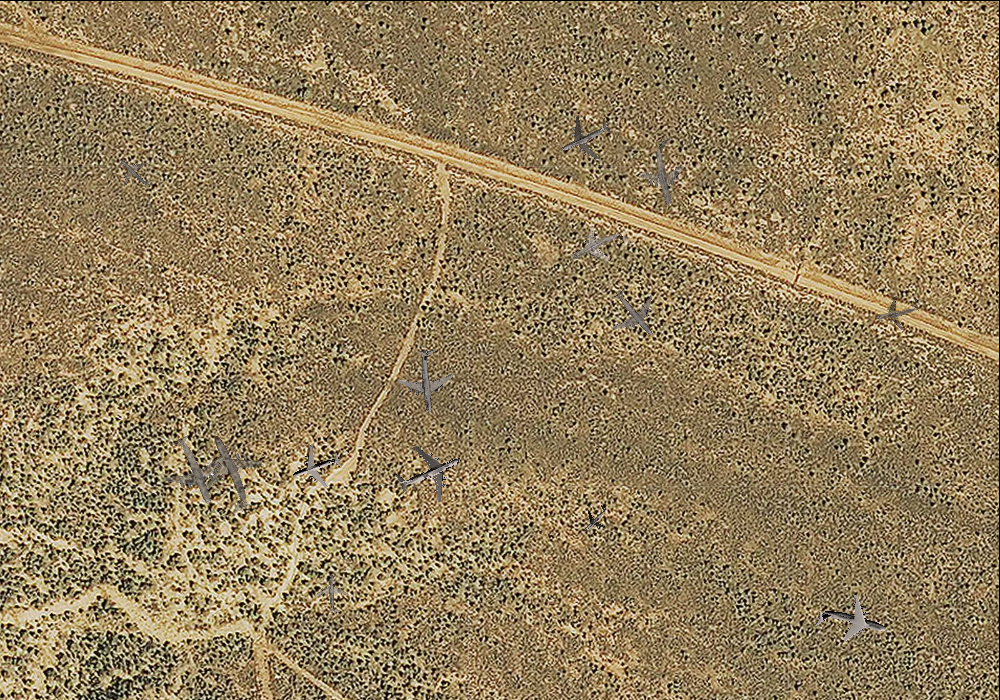plane: (180, 423, 279, 525), (146, 423, 240, 518), (385, 428, 473, 515), (808, 583, 894, 663), (560, 209, 639, 283), (596, 275, 672, 351), (630, 132, 701, 211), (549, 102, 620, 172), (393, 345, 461, 415), (285, 436, 348, 498), (108, 145, 161, 198), (871, 287, 923, 336), (574, 498, 616, 540), (313, 574, 351, 613)
